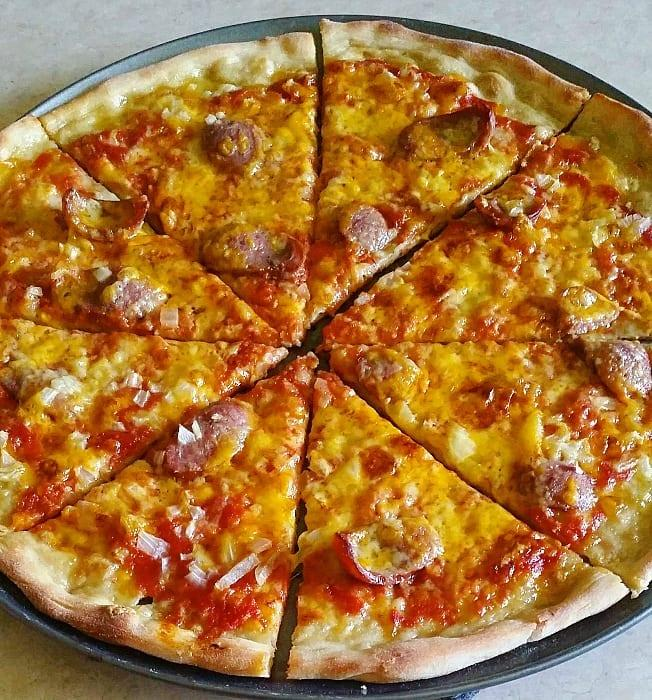Pepperoni: (320, 502, 447, 594), (151, 392, 260, 482), (518, 446, 603, 543), (0, 342, 93, 424), (196, 220, 308, 283), (393, 99, 491, 159), (54, 191, 155, 246), (474, 169, 552, 236), (95, 264, 171, 330), (584, 336, 652, 408), (552, 278, 627, 343), (200, 110, 270, 178), (333, 195, 406, 252)
Pizza: (0, 17, 652, 683)
